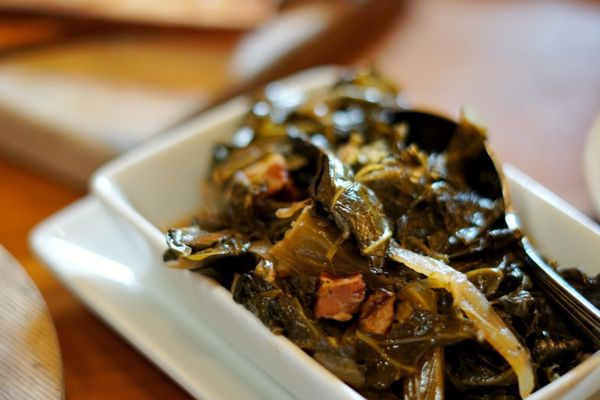sushi: (21, 63, 593, 393)
